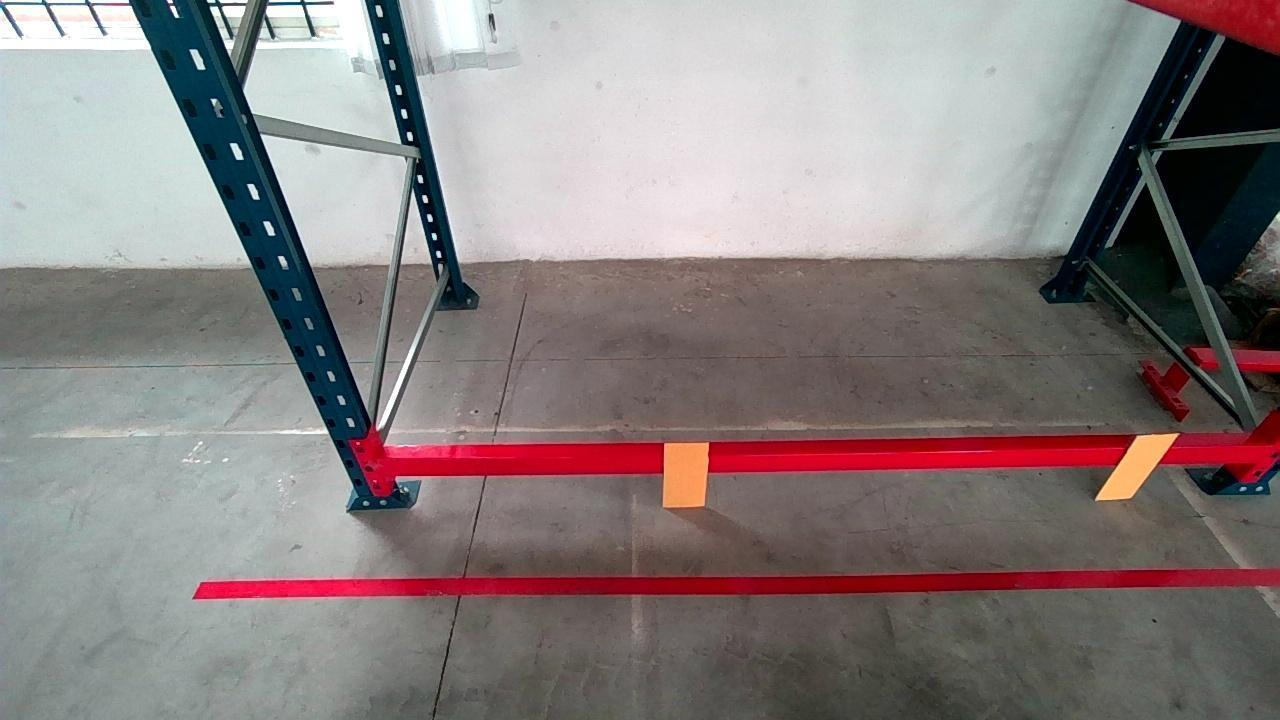h_rack: (382, 443, 1273, 474)
orange_strip: (1097, 431, 1178, 499), (664, 441, 709, 506)
red_line: (191, 563, 1280, 596)
